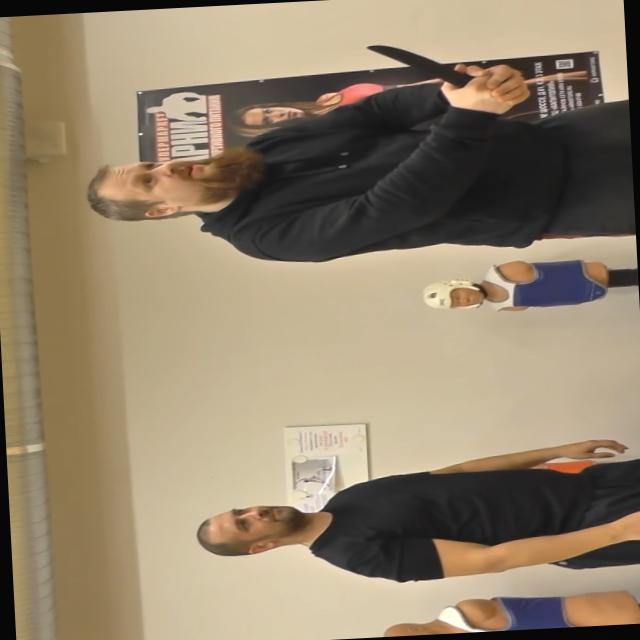knife: (358, 34, 528, 114)
